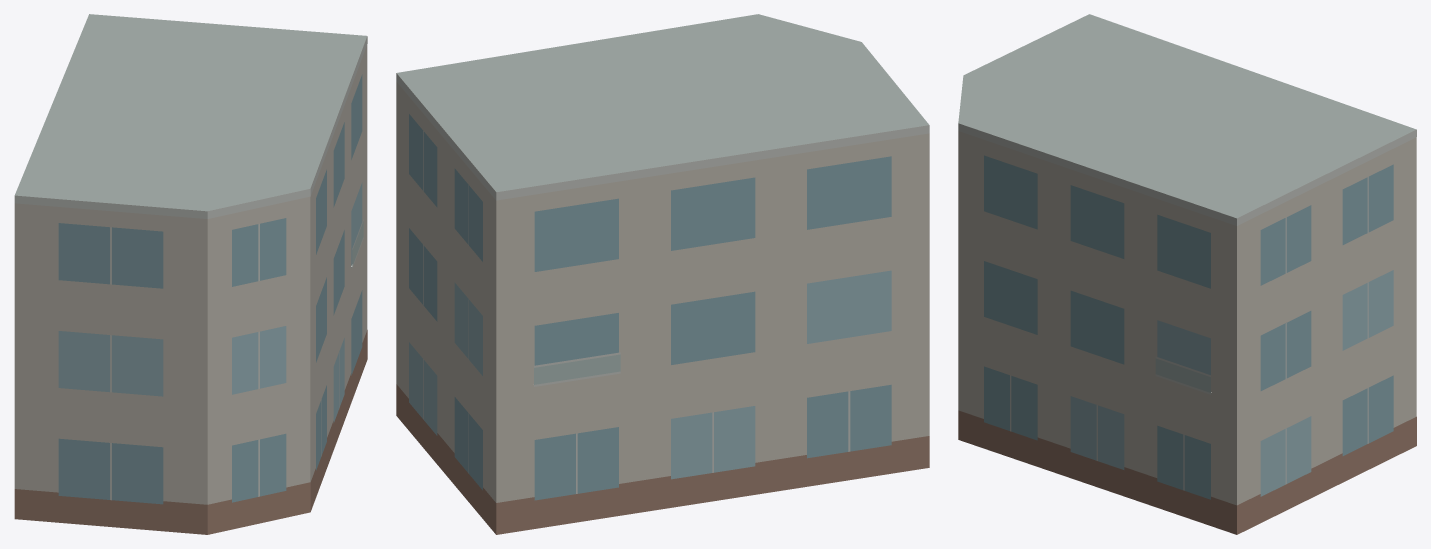
File: survey-upis-32666084.glb
3 views of the same model, side by side, from view 1: azimuth 30°, elevation 25°; view 2: azimuth 150°, elevation 25°; view 3: azimuth 270°, elevation 25° (orthographic). The views are drawn at different scales.
Parts seen in each view (by area): view 1: survey-upis-32666084.tmp; view 2: survey-upis-32666084.tmp; view 3: survey-upis-32666084.tmp.
Boxes of the visible parts, x1,y1,x2,y2 form: survey-upis-32666084.tmp: (14, 14, 367, 534); survey-upis-32666084.tmp: (396, 14, 929, 534); survey-upis-32666084.tmp: (958, 14, 1416, 534).
Bounding box in the file's own units: 14 × 10.1 × 13.27.
